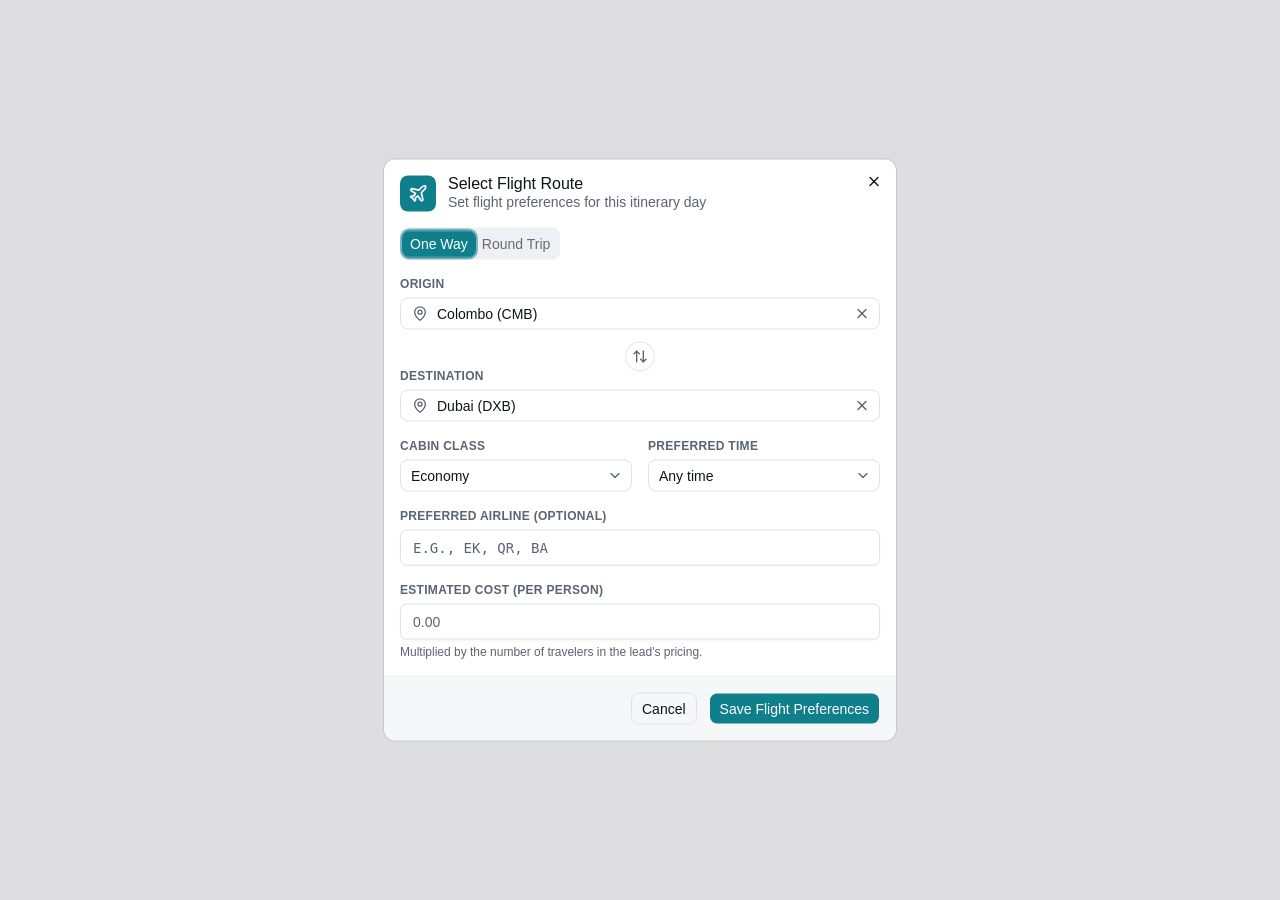
Test: FlightSelectionModal — template mode trip type › keeps the return-leg preview in step with the swap button
The image size is (1280, 900).
Click the tab "Round Trip" at point(516, 244), box [475, 231, 557, 256]
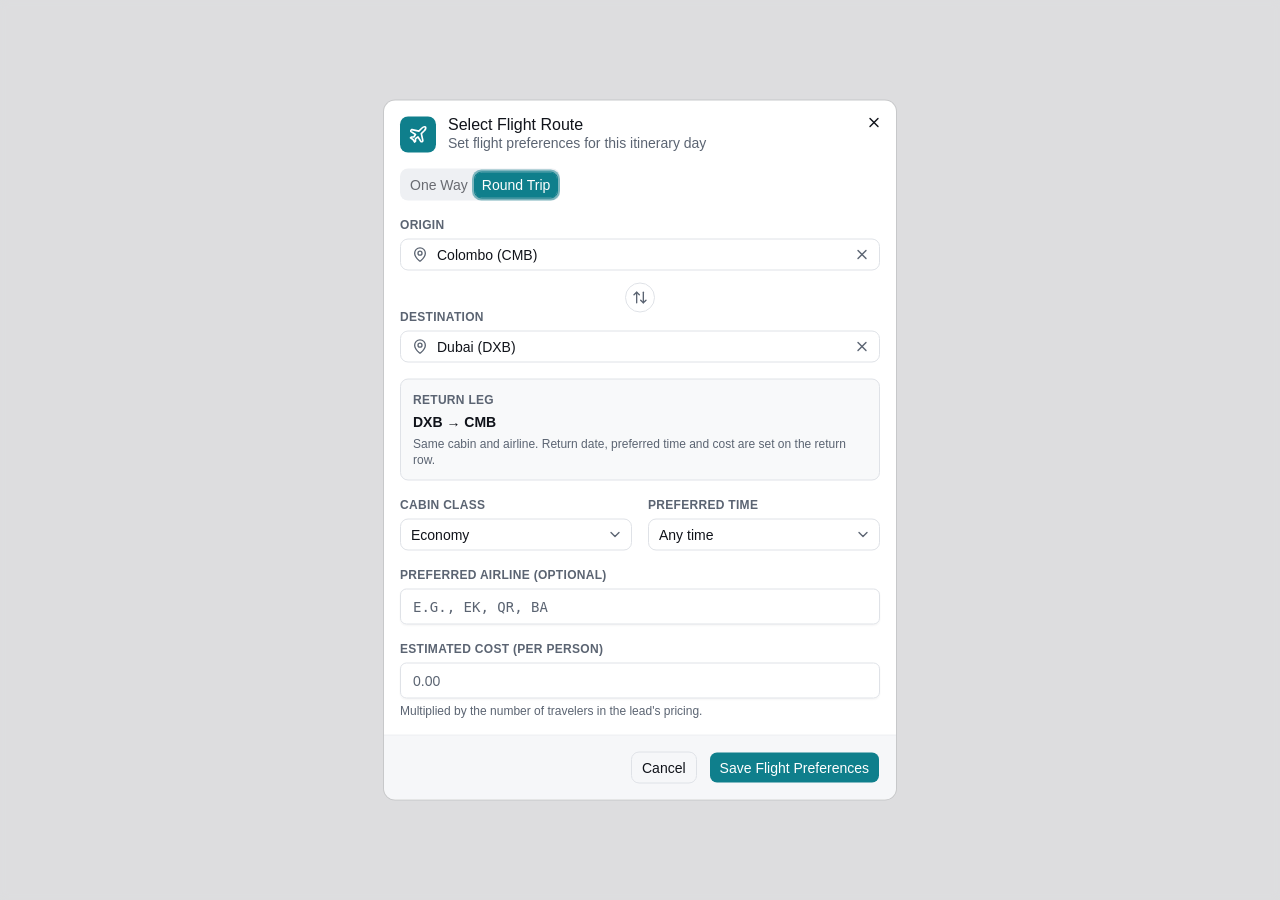
Expected: the text "DXB → CMB" is shown, [413, 414, 496, 430]
Click the button titled "Swap origin and destination" at point(640, 298), box [625, 282, 655, 312]
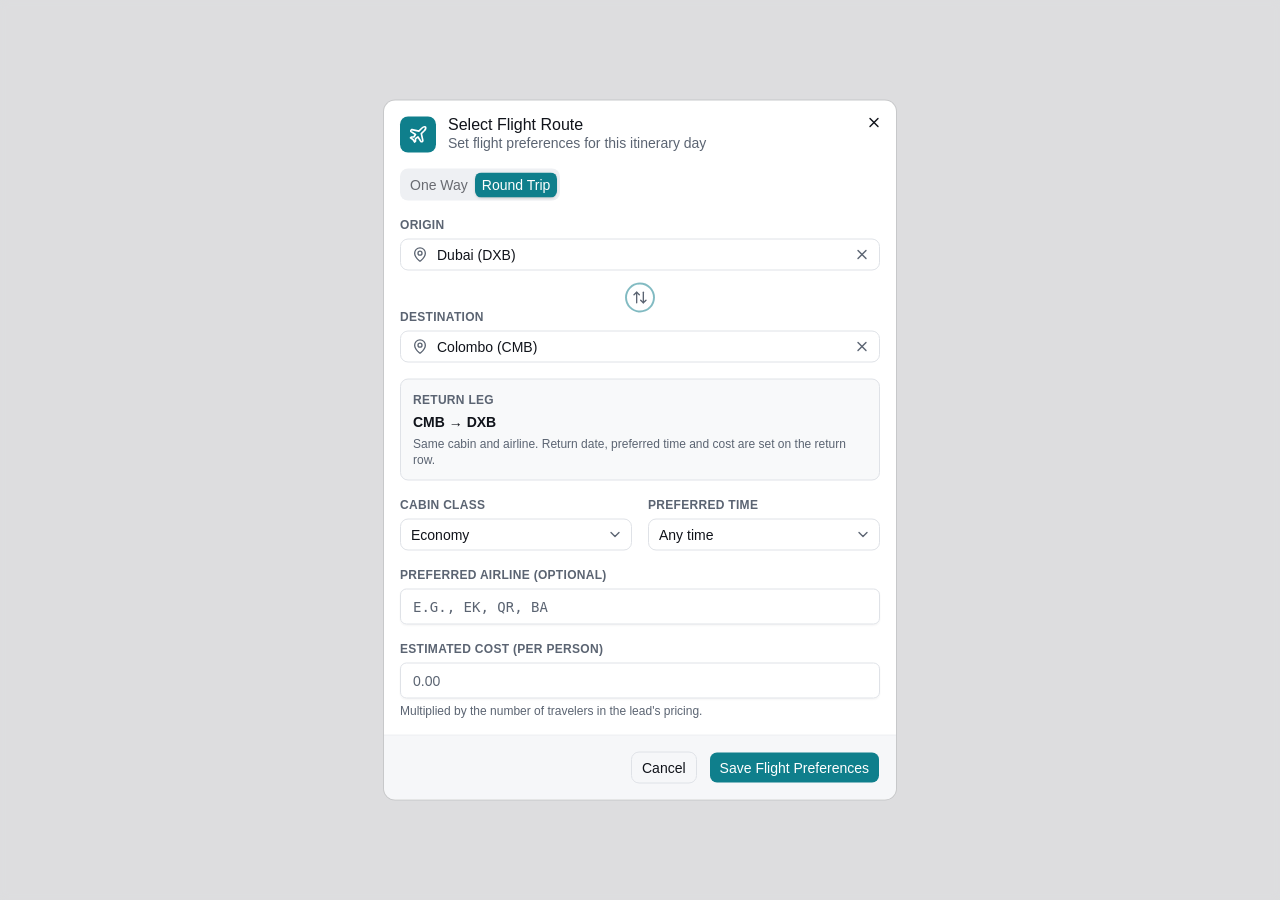
Expected: the text "CMB → DXB" is shown, [413, 414, 496, 430]
